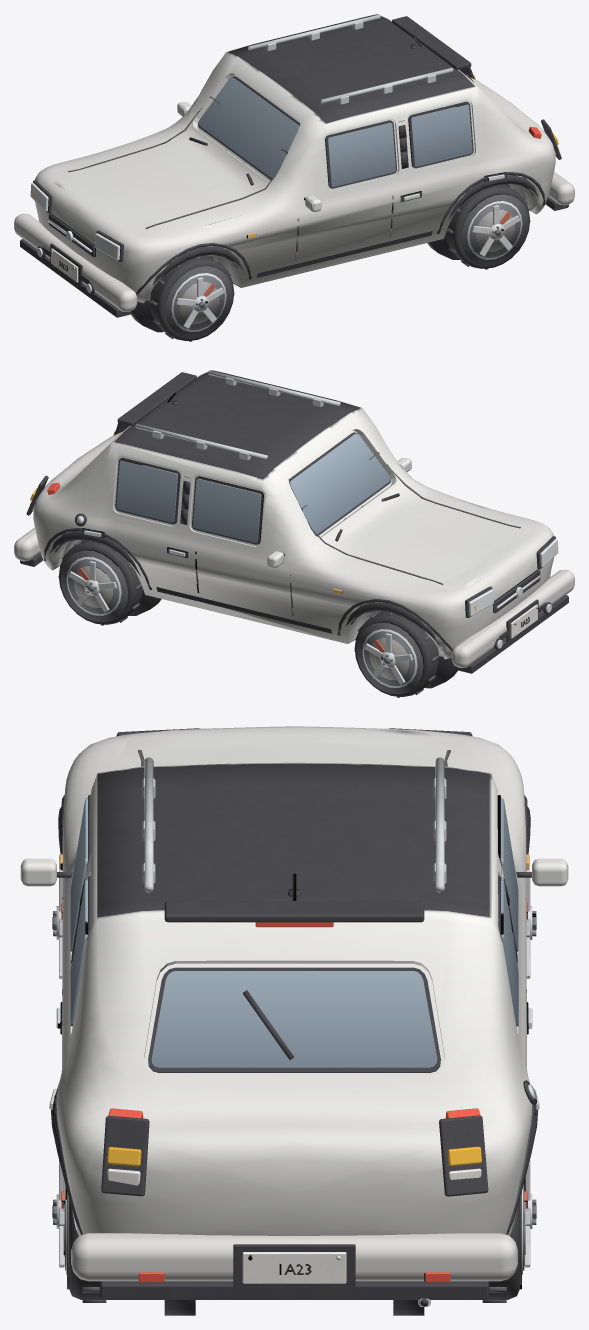
File: Rig_CarWhite.fbx
The picture shows the model from 3 angles, top to bottom: view 1: azimuth 30°, elevation 25°; view 2: azimuth 150°, elevation 25°; view 3: azimuth 270°, elevation 25°; orthographic projection. The views are drawn at different scales.
Visible parts, largest first — view 1: Transito_CarWhite__Body, Transito_CarWhite__Wheel_F_L, Transito_CarWhite__Wheel_R_L; view 2: Transito_CarWhite__Body, Transito_CarWhite__Wheel_F_R, Transito_CarWhite__Wheel_R_R; view 3: Transito_CarWhite__Body, Transito_CarWhite__Wheel_R_R, Transito_CarWhite__Wheel_R_L.
Boxes of the visible parts, x1,y1,x2,y2 form: Transito_CarWhite__Body: (14, 14, 574, 332); Transito_CarWhite__Wheel_F_L: (149, 255, 234, 341); Transito_CarWhite__Wheel_R_L: (446, 184, 530, 269); Transito_CarWhite__Body: (14, 370, 574, 688); Transito_CarWhite__Wheel_F_R: (354, 611, 439, 697); Transito_CarWhite__Wheel_R_R: (58, 540, 142, 625); Transito_CarWhite__Body: (20, 726, 568, 1315); Transito_CarWhite__Wheel_R_R: (482, 1160, 536, 1302); Transito_CarWhite__Wheel_R_L: (52, 1160, 106, 1302).
Size of the model in its own units: 4.13 by 1.74 by 2.11.
